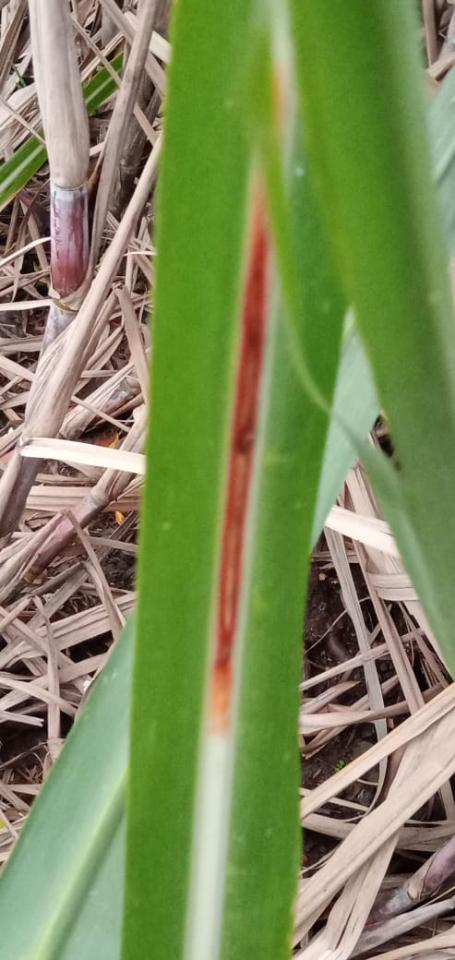RedRot: (208, 171, 270, 744)
